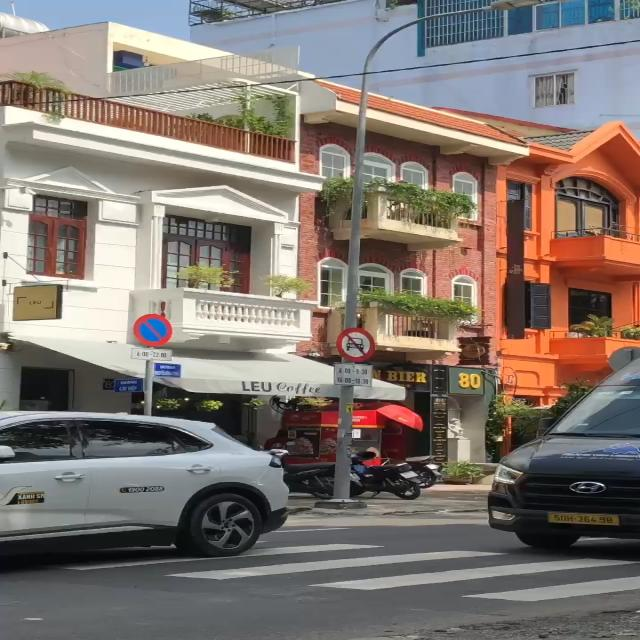Bien bao cam do xe: (128, 311, 175, 346)
Bien bao cam xe oto: (336, 325, 377, 364)
